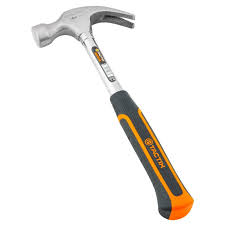martillu: (29, 3, 197, 222)
